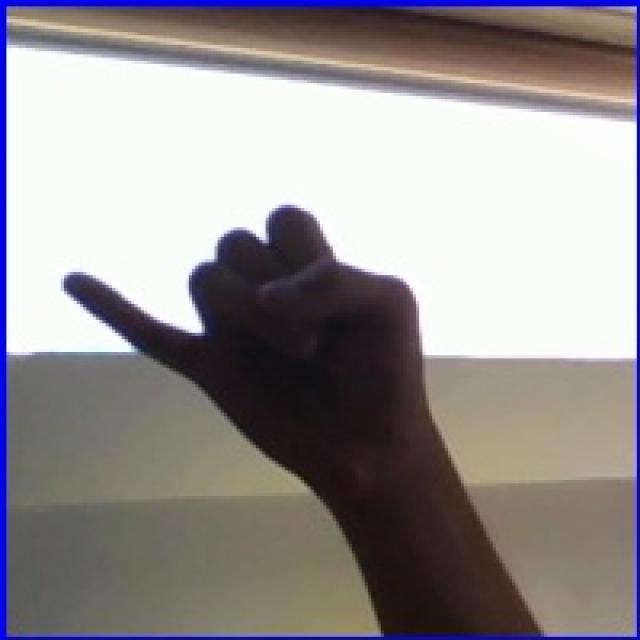J: (31, 151, 502, 464)
